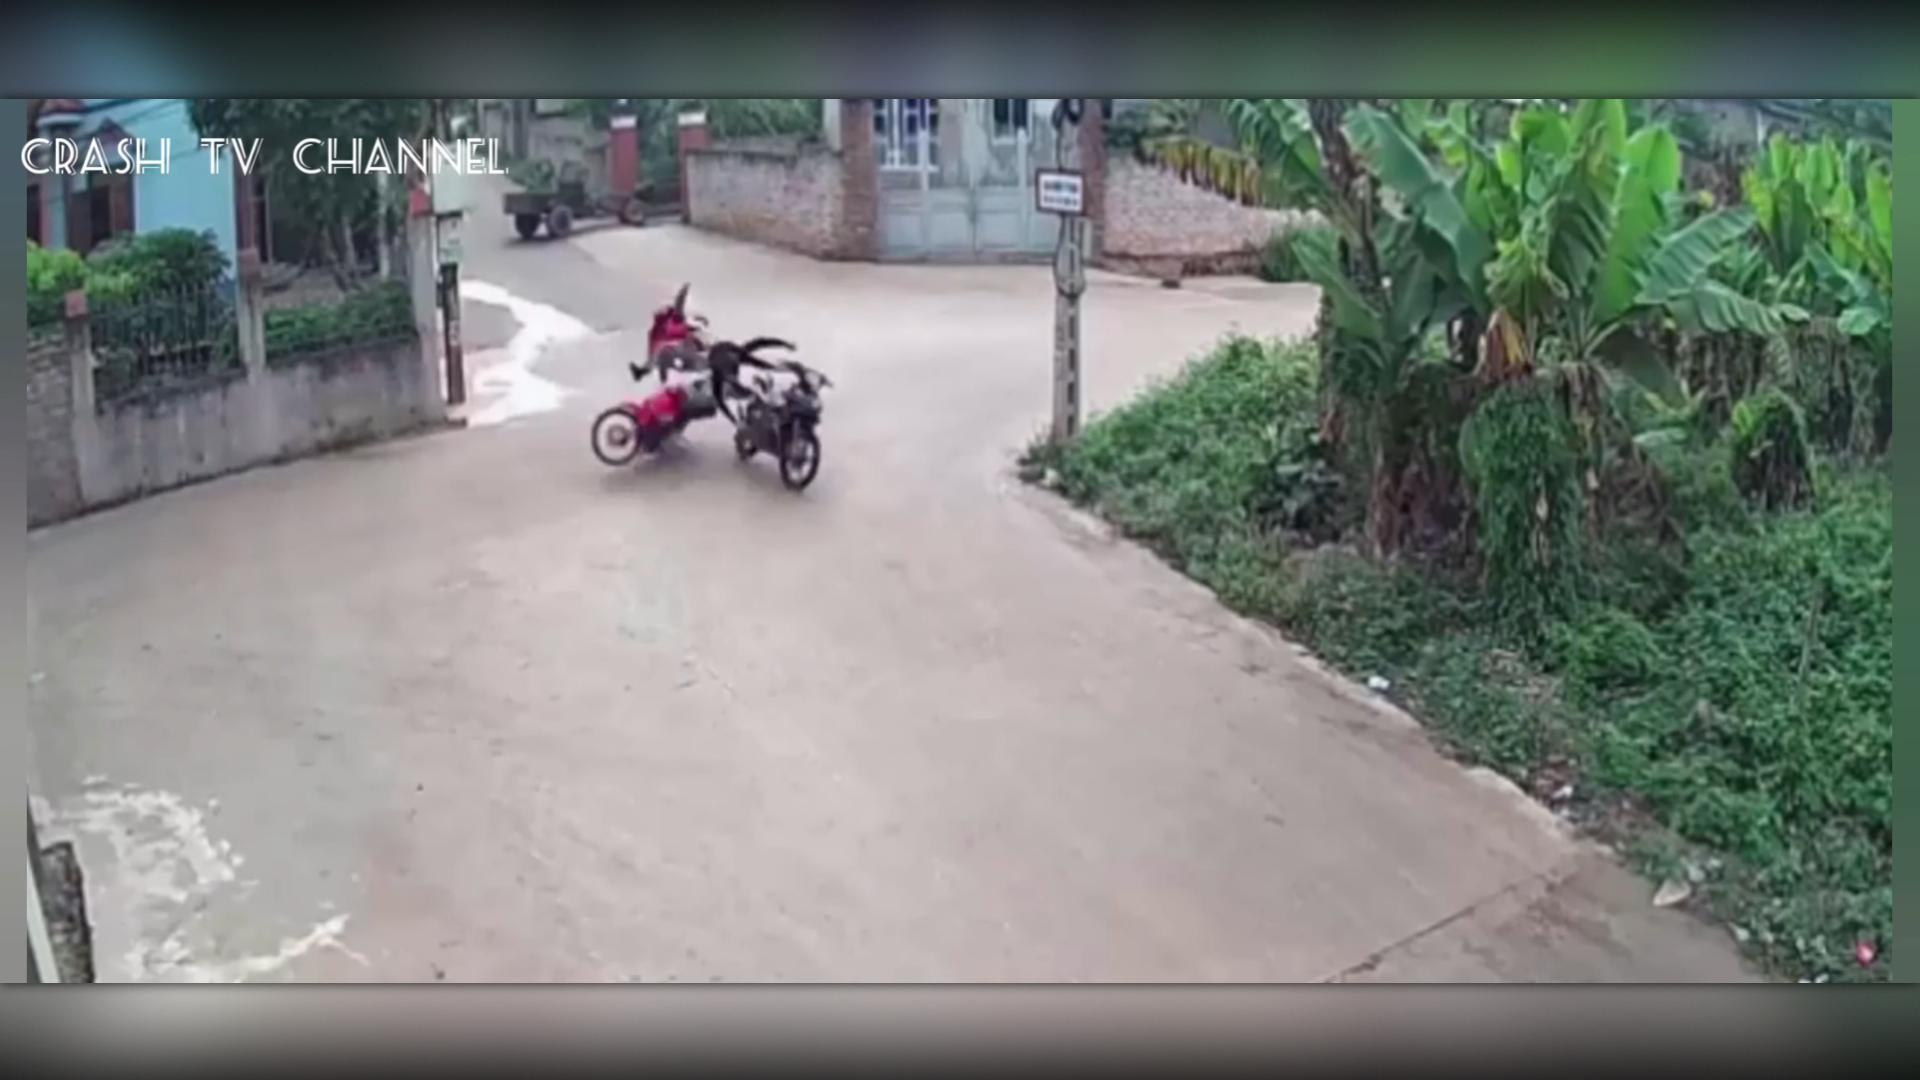accident: (570, 239, 899, 521), (585, 269, 856, 509)
